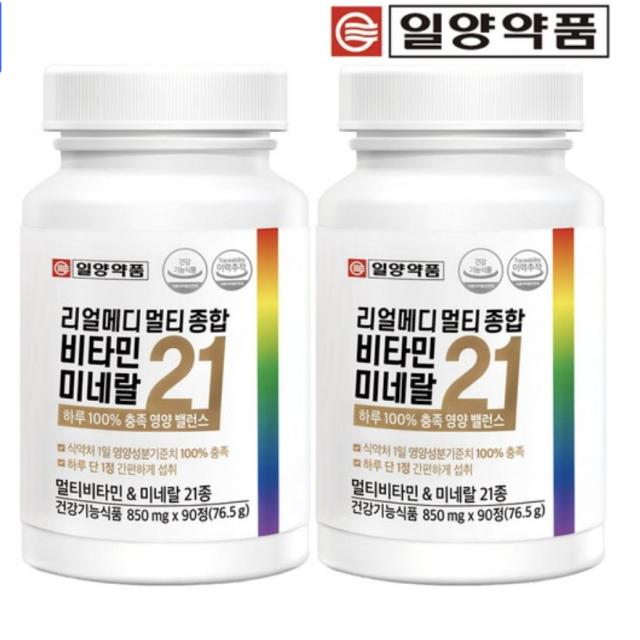recyclable: (295, 50, 627, 597), (12, 55, 316, 594)
